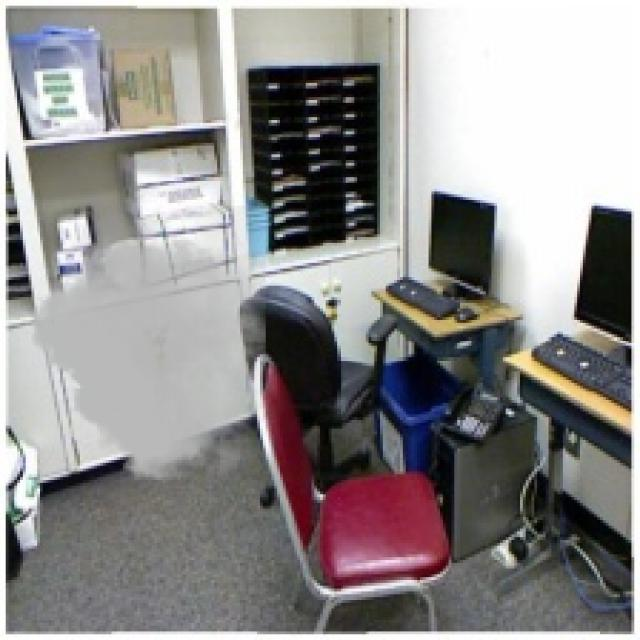smoke: (31, 205, 266, 486)
